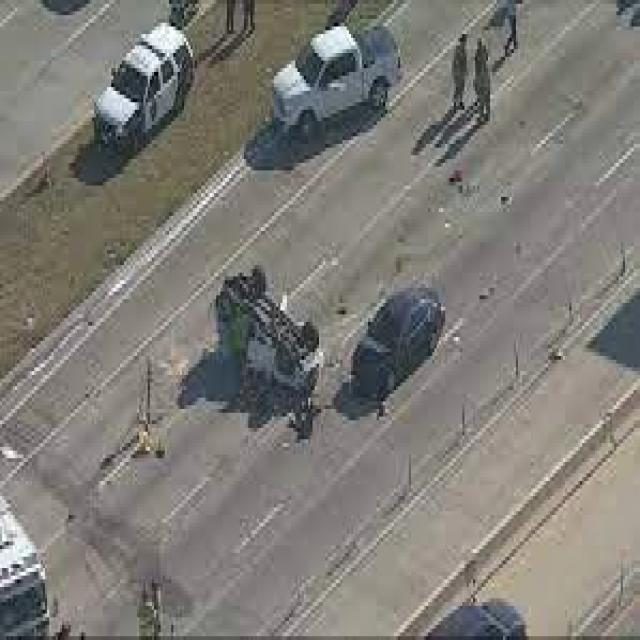severe: (218, 262, 324, 402)
